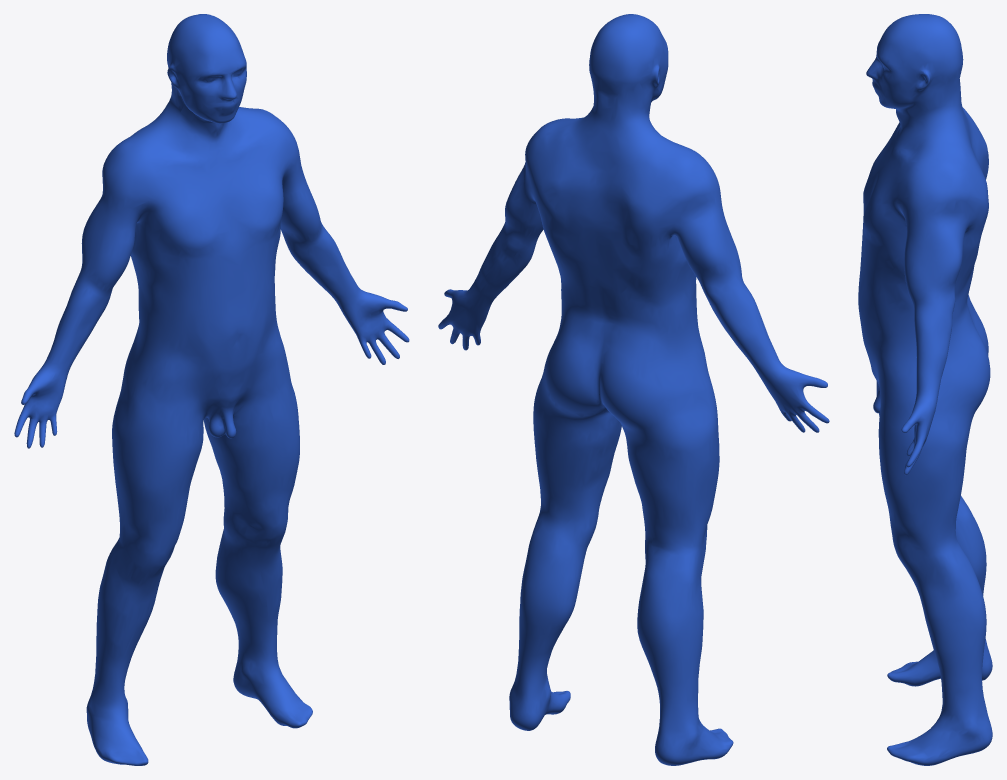
The model's file is reference-male.glb.
3 views of the same model, side by side, from view 1: azimuth 30°, elevation 25°; view 2: azimuth 150°, elevation 25°; view 3: azimuth 270°, elevation 25° (orthographic). The views are drawn at different scales.
Parts seen in each view (by area): view 1: VH_M_skin; view 2: VH_M_skin; view 3: VH_M_skin.
Part boxes in pixels (box(x1,y1,x2,y2)): VH_M_skin: box(14, 14, 409, 765); VH_M_skin: box(438, 14, 829, 765); VH_M_skin: box(858, 14, 992, 765).
Size of the model in its own units: 1.05 by 1.83 by 0.3163.
